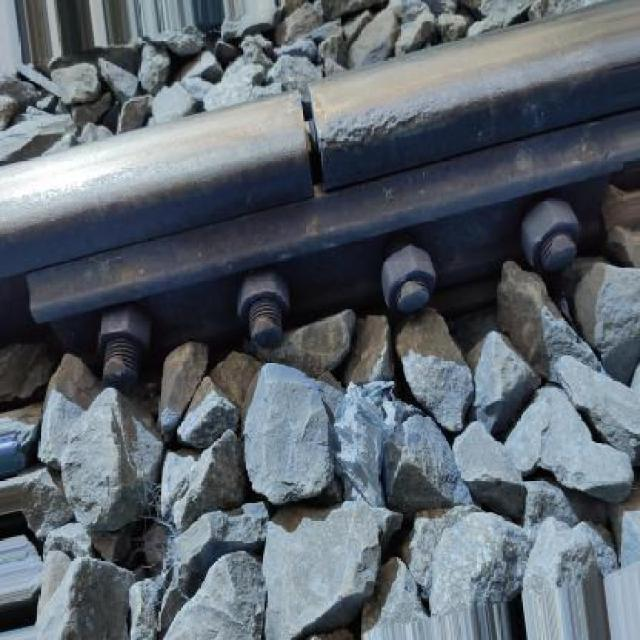defective: (223, 28, 424, 276)
